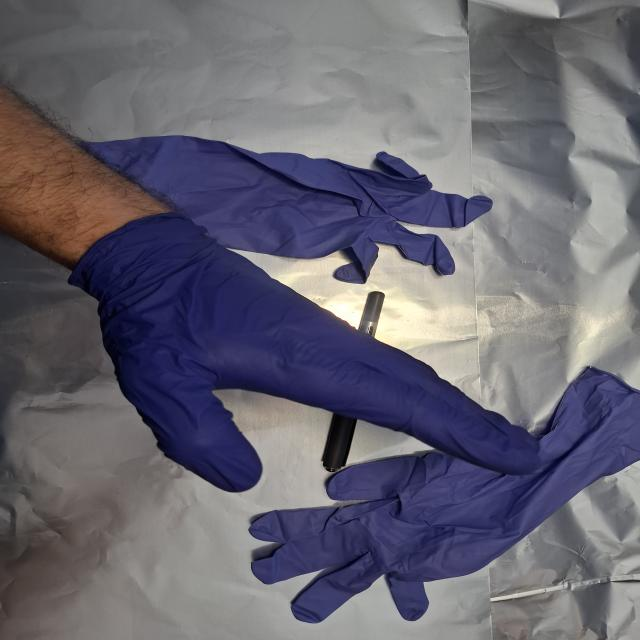glove_on: (72, 211, 551, 494)
